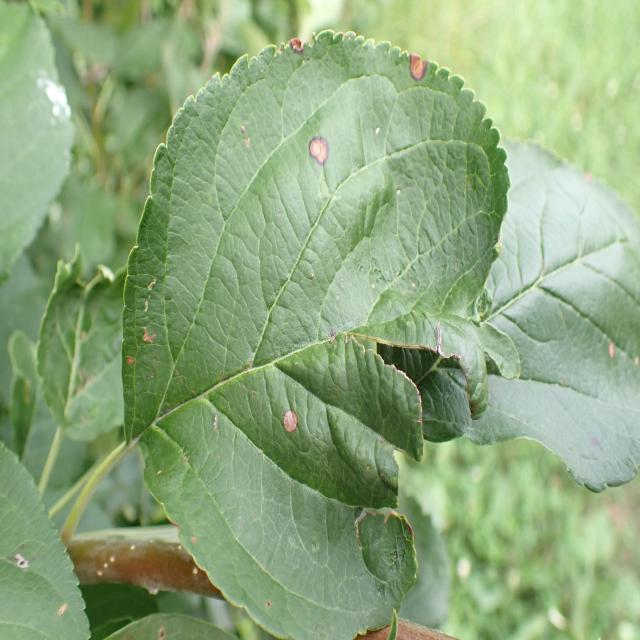Black Rot: (344, 322, 508, 620), (397, 31, 446, 113), (298, 89, 340, 182), (278, 386, 318, 473), (264, 12, 314, 80)
